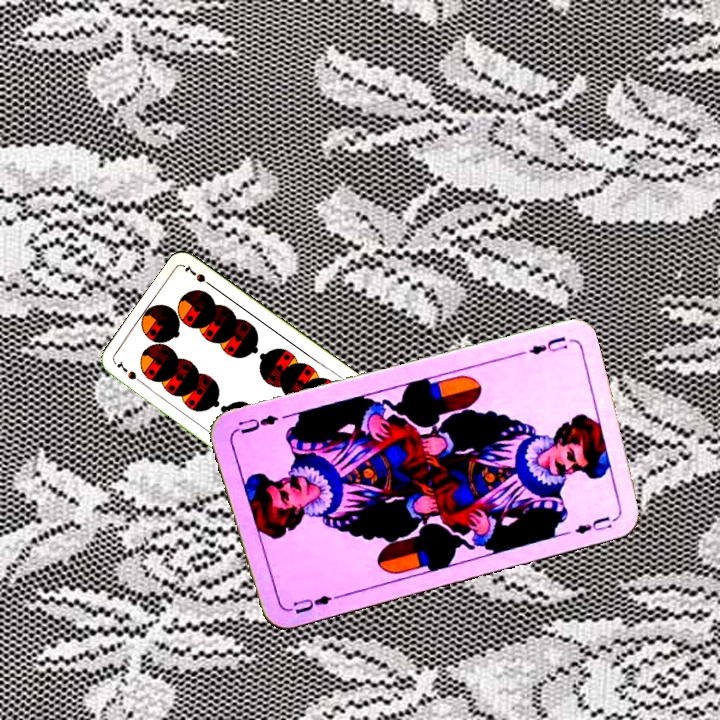EU: (282, 590, 341, 617), (525, 332, 571, 358)
S7: (113, 357, 147, 388)
